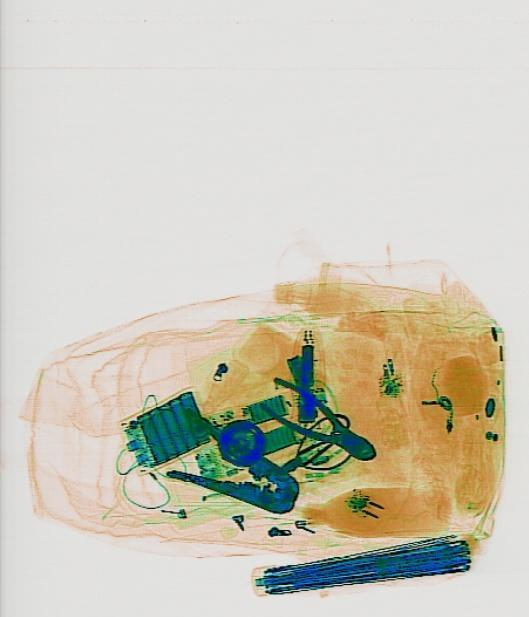Pliers: (162, 410, 309, 534), (254, 371, 383, 475)
Scissors: (256, 406, 365, 502)
